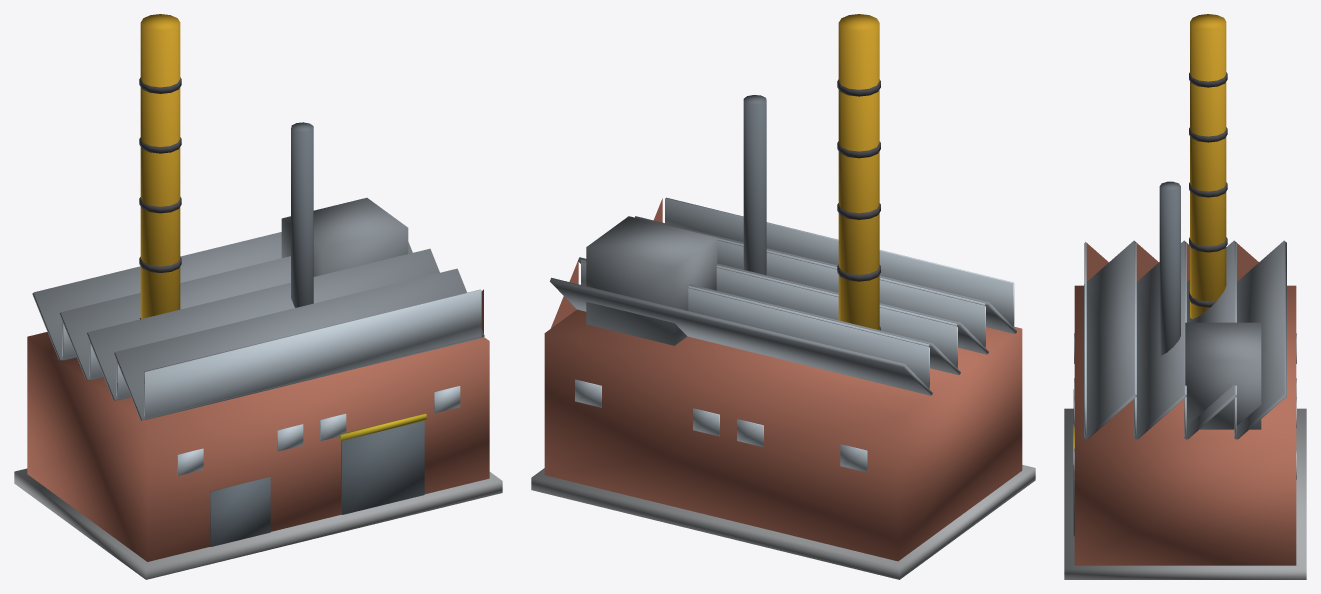
File: foundry.glb
The picture shows the model from 3 angles, left to right: view 1: azimuth 30°, elevation 25°; view 2: azimuth 150°, elevation 25°; view 3: azimuth 270°, elevation 25°; orthographic projection. The views are drawn at different scales.
Parts seen in each view (by area): view 1: world; view 2: world; view 3: world.
Part boxes in pixels (<box>): world: <box>14,14,502,579</box>; world: <box>531,14,1035,579</box>; world: <box>1064,14,1306,579</box>.
Size of the model in its own units: 25 by 32 by 16.
